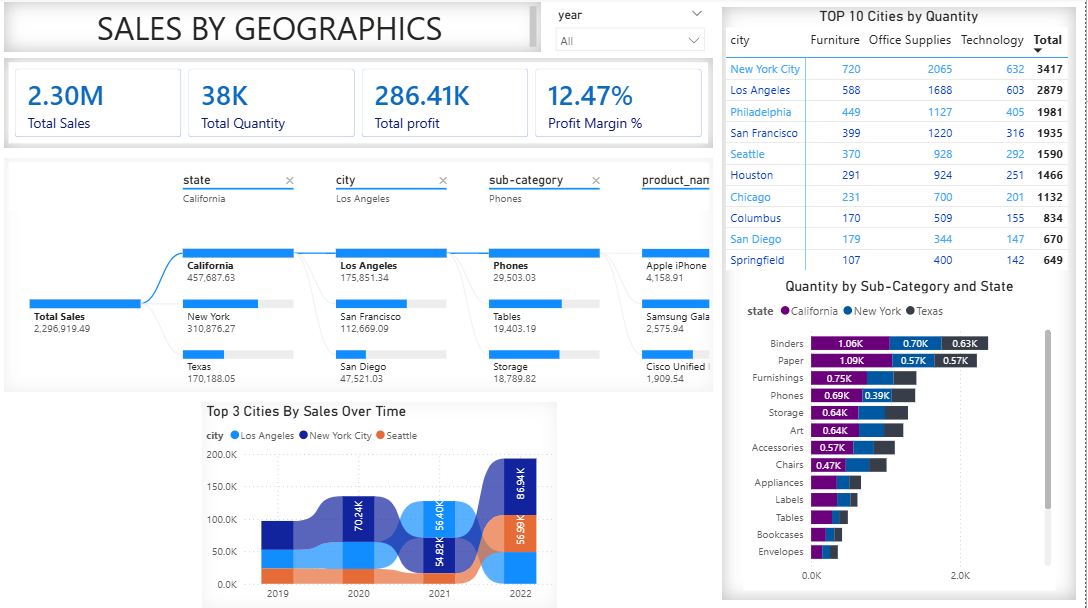

What the dashboard file says about the page in this screenshot:
{"tool":"powerbi","page":{"name":"SALES BY GEOGRAPHICS","canvas":[1280,720],"ordinal":1},"visuals":[{"type":"cardVisual","fields":{"Data":["orders.Total Sales","Sum(orders.quantity)","Sum(orders.profit)","orders.Profit Margin %"]},"box":[8.8,72,833.4,105.8],"z":0},{"type":"pivotTable","title":"TOP 10 Cities by Quantity","fields":{"Rows":["orders.city"],"Columns":["orders.category"],"Values":["Sum(orders.quantity)"]},"box":[852.6,11.8,416,696.7],"z":1000},{"type":"textbox","box":[8.8,5.9,630.6,58.8],"z":2000},{"type":"barChart","title":"Quantity by Sub-Category and State","fields":{"Category":["orders.sub-category"],"Series":["orders.state"],"Y":["Sum(orders.quantity)"]},"box":[877.5,329.3,367.5,368.9],"z":3000},{"type":"ribbonChart","title":"Top 3 Cities By Sales Over Time","fields":{"Y":["orders.Total Sales"],"Category":["DateTable.year"],"Series":["orders.city"]},"box":[241.1,476.3,417.5,244],"z":4000},{"type":"decompositionTreeVisual","fields":{"Analyze":["orders.Total Sales"],"ExplainBy":["orders.state","orders.city","orders.sub-category","orders.product_name"]},"box":[8.8,189.6,833.4,274.9],"z":5000},{"type":"slicer","fields":{"Values":["DateTable.year"]},"box":[646.8,7.3,195.5,57.3],"z":6000}]}

Visuals, with their boxes in screenshot pixels (x1, y1, x2, y2), scaled from the page's 1280x720 canvas onto the 1088x608 screenshot:
cardVisual - orders.Total Sales x Sum(orders.quantity): bbox=(7, 61, 716, 150)
"TOP 10 Cities by Quantity" pivotTable: bbox=(725, 10, 1078, 598)
textbox: bbox=(7, 5, 543, 55)
"Quantity by Sub-Category and State" barChart: bbox=(746, 278, 1058, 590)
"Top 3 Cities By Sales Over Time" ribbonChart: bbox=(205, 402, 560, 607)
decompositionTreeVisual - orders.Total Sales x orders.state: bbox=(7, 160, 716, 392)
slicer - DateTable.year: bbox=(550, 6, 716, 55)
